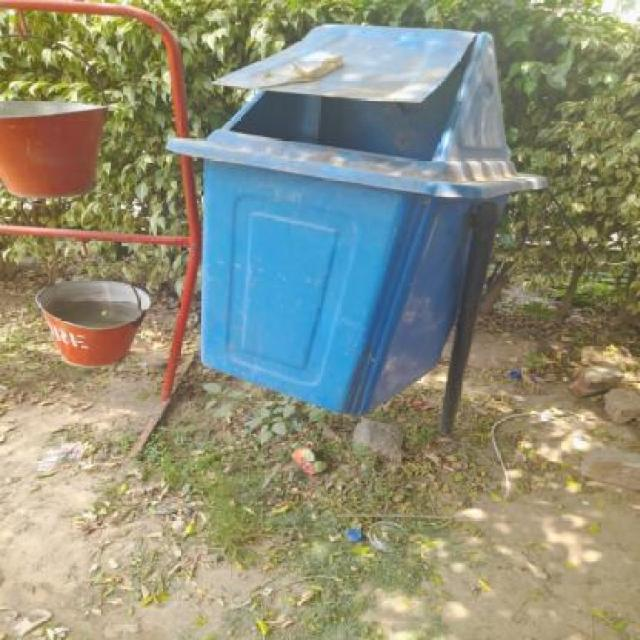garbage: (271, 440, 418, 568), (251, 46, 366, 104)
